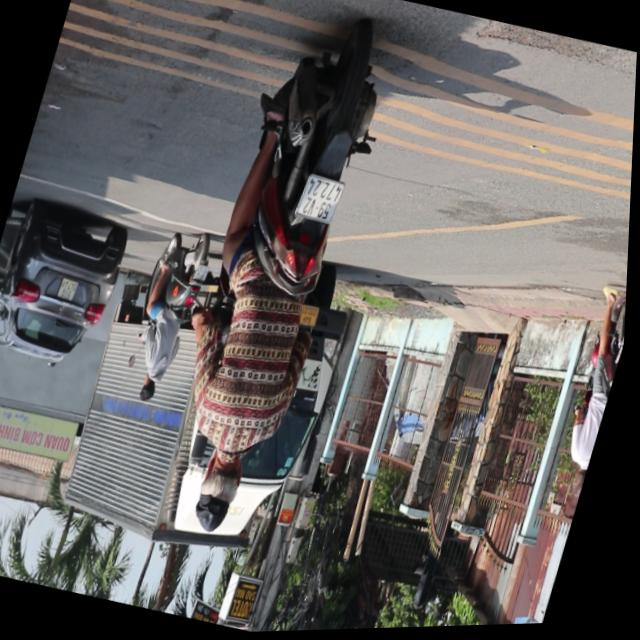licenseplate: (137, 9, 403, 549), (547, 272, 630, 523)
motorcyclist: (190, 450, 253, 540), (569, 469, 592, 509)
nohelmet: (297, 176, 347, 229)
